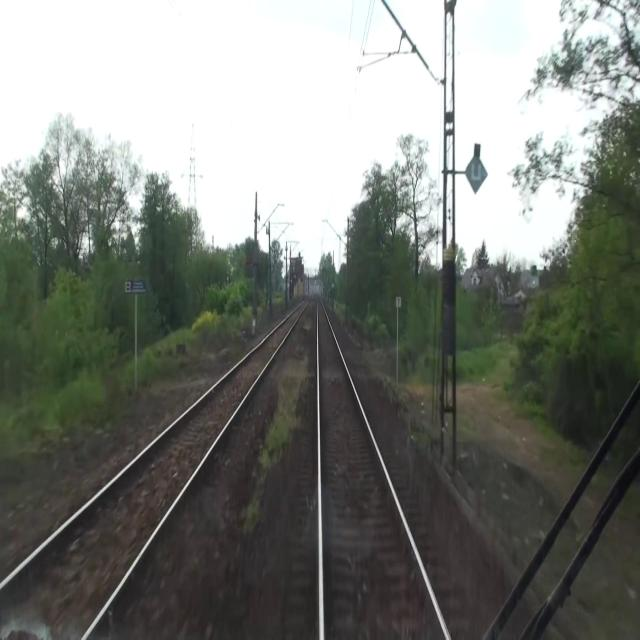rail-track: (0, 296, 310, 639), (318, 296, 437, 639)
